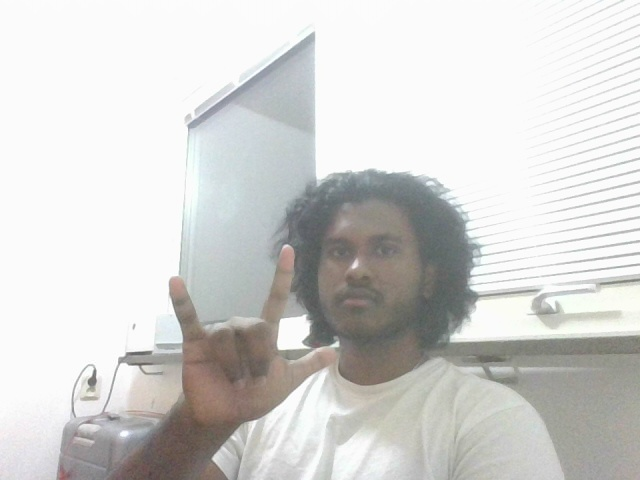I Love You: (159, 248, 347, 429)
